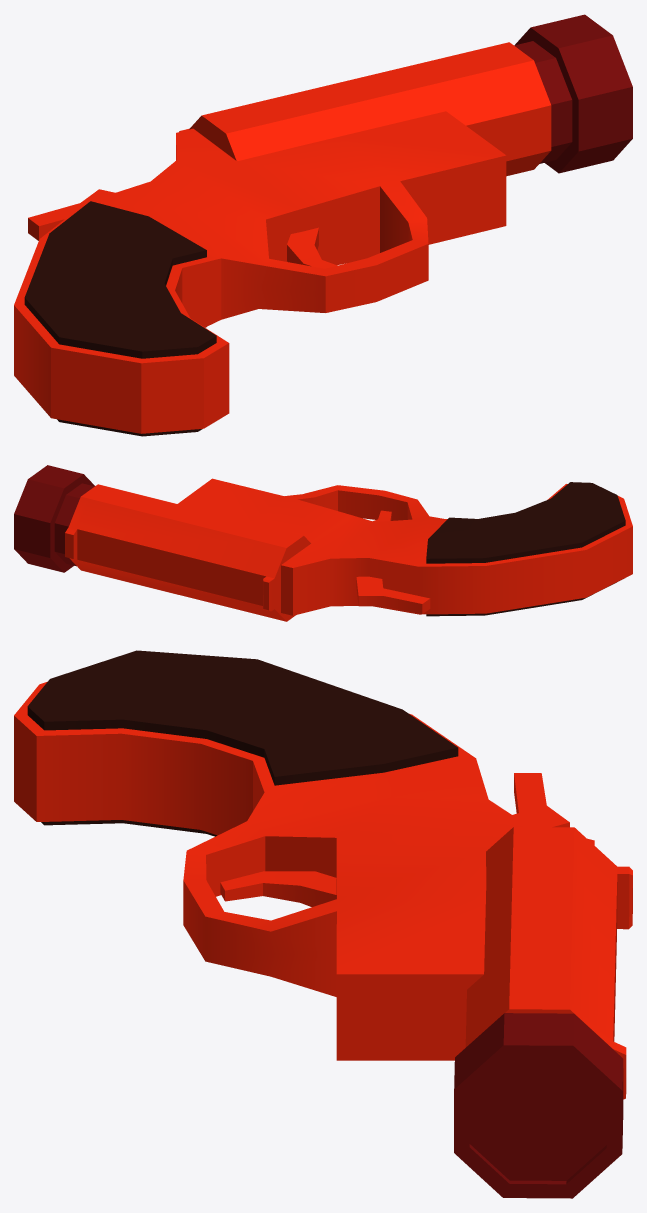
Rendered from PistolaDeBengalas.FBX.
The picture shows the model from 3 angles, top to bottom: view 1: azimuth 30°, elevation 25°; view 2: azimuth 150°, elevation 25°; view 3: azimuth 270°, elevation 25°; orthographic projection. The views are drawn at different scales.
Visible parts, largest first — view 1: PistolaDeBengalas; view 2: PistolaDeBengalas; view 3: PistolaDeBengalas.
Part boxes in pixels (x1=…): PistolaDeBengalas: x1=14, y1=14, x2=632, y2=436; PistolaDeBengalas: x1=14, y1=465, x2=632, y2=621; PistolaDeBengalas: x1=14, y1=650, x2=632, y2=1198.
Size of the model in its own units: 18.77 by 3.14 by 11.53.
